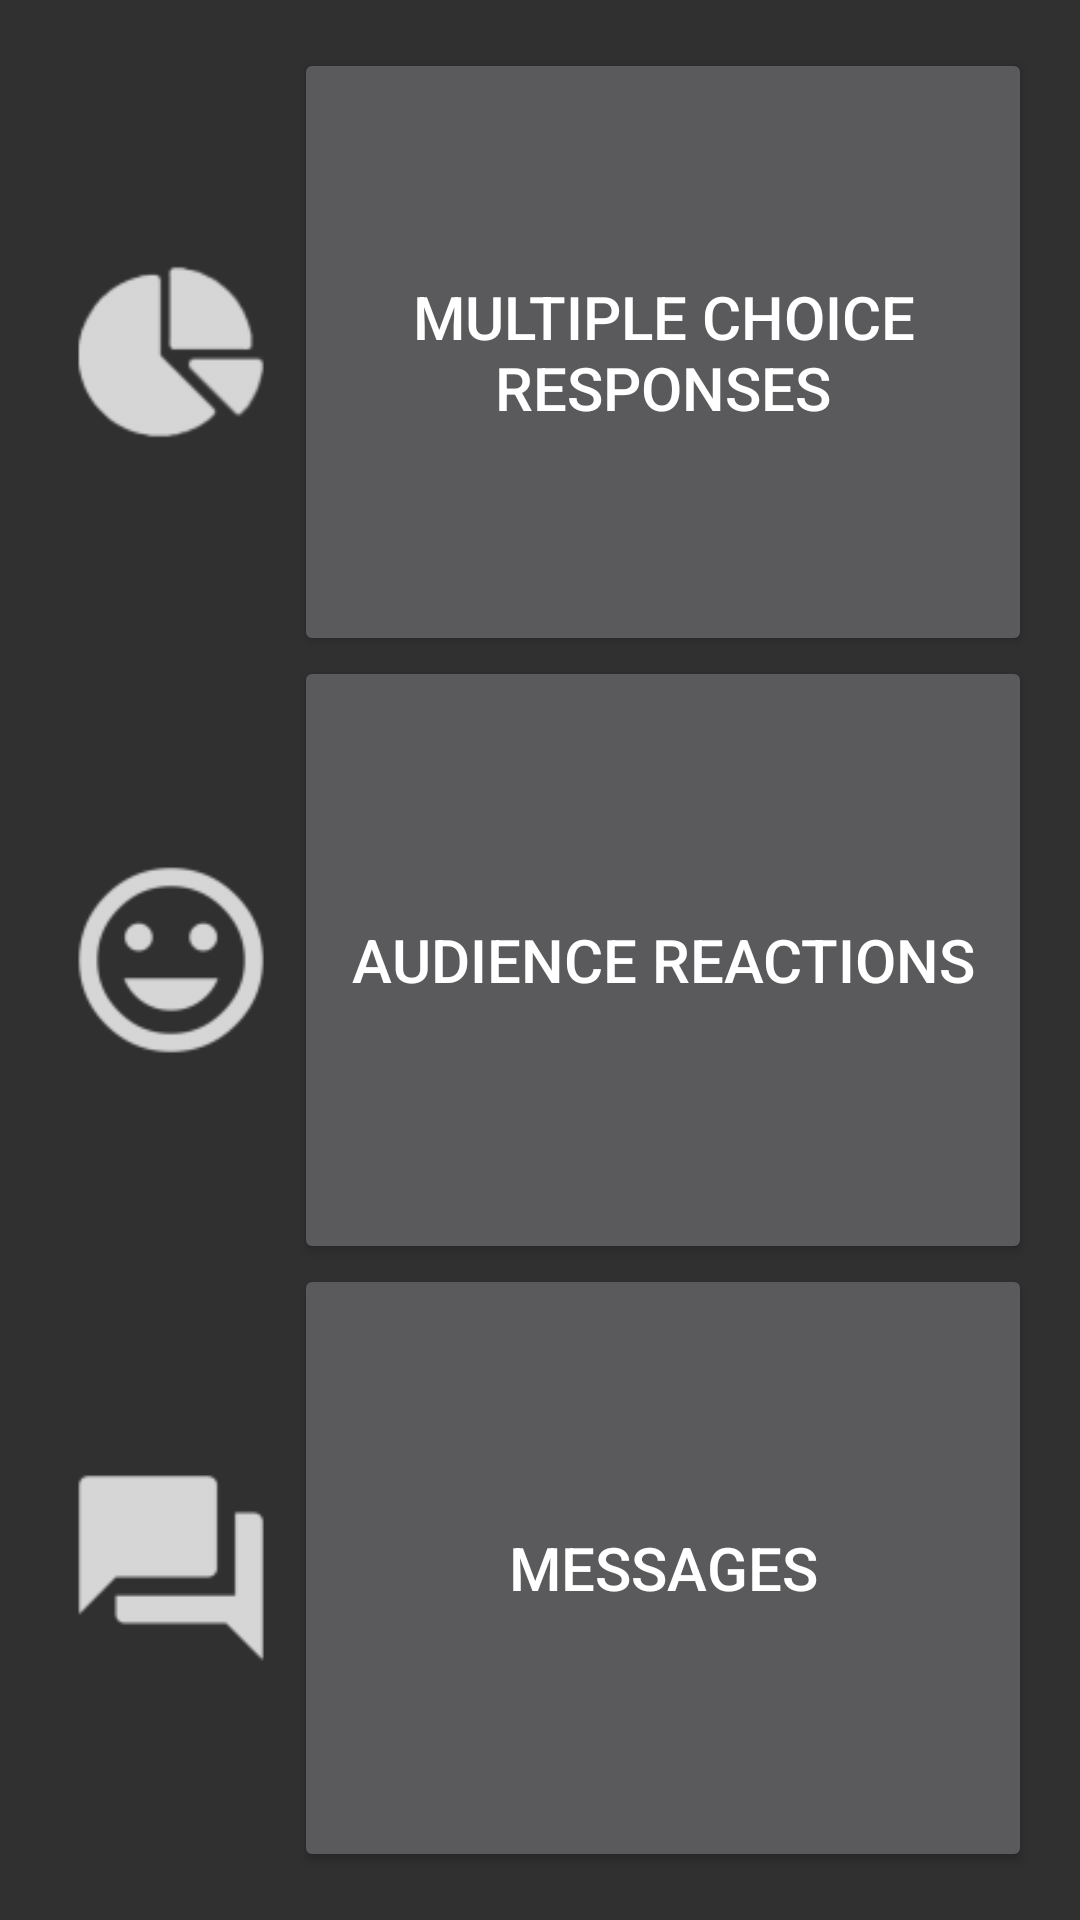

Screen size 1080*1920. Icon name, then its box in pixels as (x1, y1, x2, y2):
face: (78, 867, 264, 1053)
messaging: (78, 1475, 264, 1660)
pi chart: (78, 267, 264, 437)
